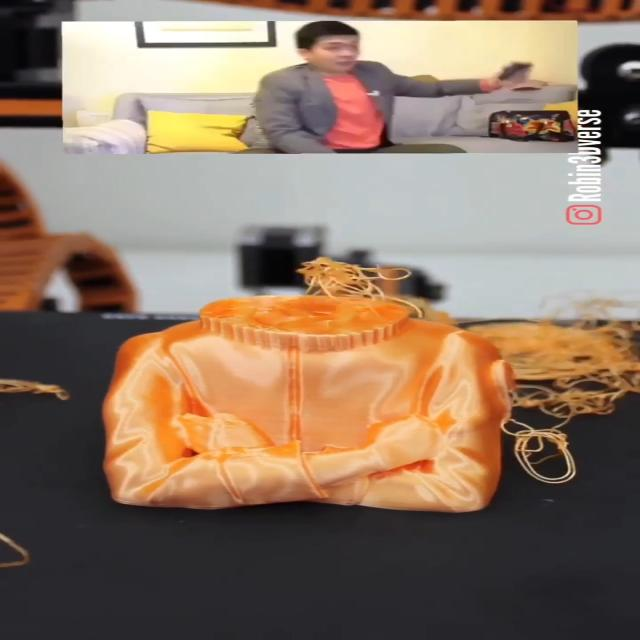spaghetti: (450, 298, 640, 499), (299, 233, 422, 309), (0, 363, 85, 415), (0, 529, 32, 585)
